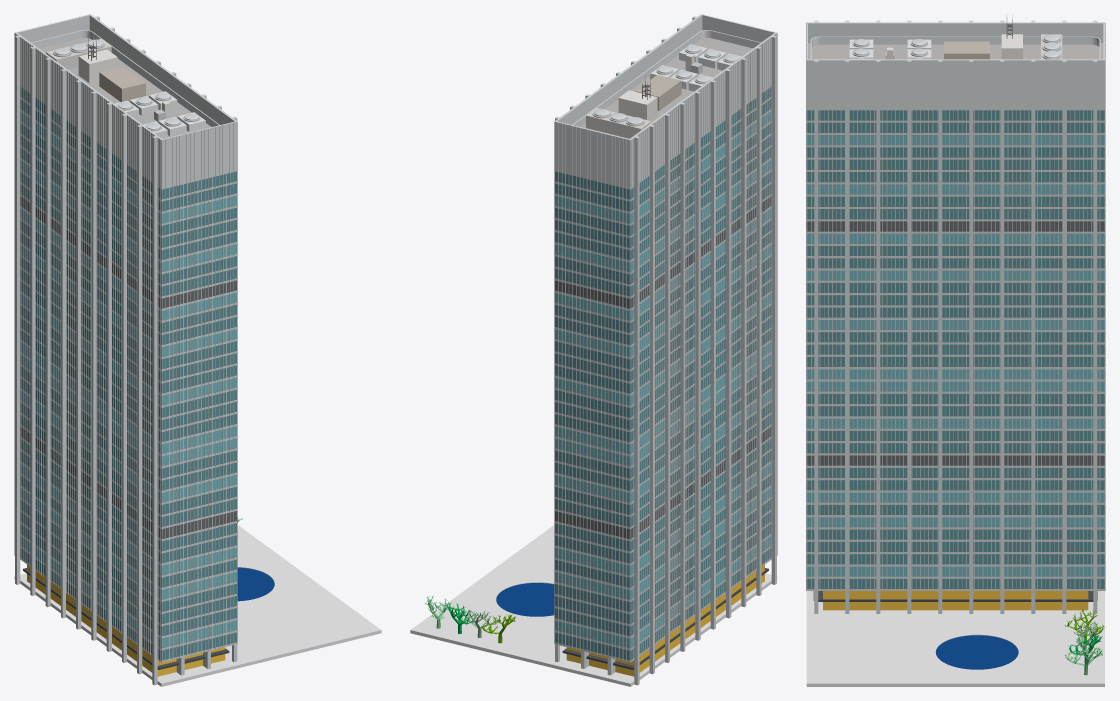
Rendered from one_chase_manhattan_bank.glb.
3 renders of one model, left to right at view 1: azimuth 30°, elevation 25°; view 2: azimuth 150°, elevation 25°; view 3: azimuth 270°, elevation 25°, orthographic.
Visible parts, largest first — view 1: Object_6, Object_5, Object_20, Object_21, Object_4, Object_9, Object_15, Object_24, Object_8, Object_25, Object_10, Object_26 (+3 smaller); view 2: Object_5, Object_6, Object_20, Object_21, Object_4, Object_9, Object_15, Object_24, Object_22, Object_25, Object_8, Object_10 (+4 smaller); view 3: Object_6, Object_20, Object_21, Object_4, Object_9, Object_15, Object_24, Object_25, Object_22, Object_8, Object_5, Object_17 (+3 smaller).
Boxes of the visible parts, box(x1,y1,x2,y2) form: Object_6: box(14, 14, 237, 684); Object_5: box(14, 17, 237, 685); Object_20: box(20, 87, 236, 660); Object_21: box(20, 111, 236, 648); Object_4: box(20, 96, 236, 662); Object_9: box(14, 525, 381, 686); Object_15: box(20, 196, 236, 539); Object_24: box(27, 564, 225, 676); Object_8: box(31, 30, 219, 126); Object_25: box(39, 38, 211, 138); Object_10: box(114, 91, 205, 138); Object_26: box(99, 66, 145, 101); Object_5: box(555, 17, 777, 685); Object_6: box(554, 14, 777, 684); Object_20: box(555, 87, 771, 660); Object_21: box(555, 111, 771, 648); Object_4: box(555, 97, 771, 662); Object_9: box(410, 525, 777, 686); Object_15: box(555, 196, 771, 539); Object_24: box(566, 564, 764, 676); Object_22: box(496, 583, 554, 616); Object_25: box(581, 37, 752, 138); Object_8: box(572, 30, 760, 126); Object_10: box(650, 44, 741, 91); Object_6: box(806, 20, 1105, 613); Object_20: box(806, 110, 1104, 588); Object_21: box(806, 135, 1104, 576); Object_4: box(806, 120, 1104, 590); Object_9: box(806, 591, 1104, 686); Object_15: box(806, 221, 1104, 465); Object_24: box(823, 591, 1088, 610); Object_25: box(808, 43, 1103, 59); Object_22: box(935, 635, 1018, 669); Object_8: box(810, 36, 1100, 59); Object_5: box(806, 22, 1105, 590); Object_17: box(818, 24, 1093, 601).
Size of the model in its own units: 63.23 by 154 by 72.36.
